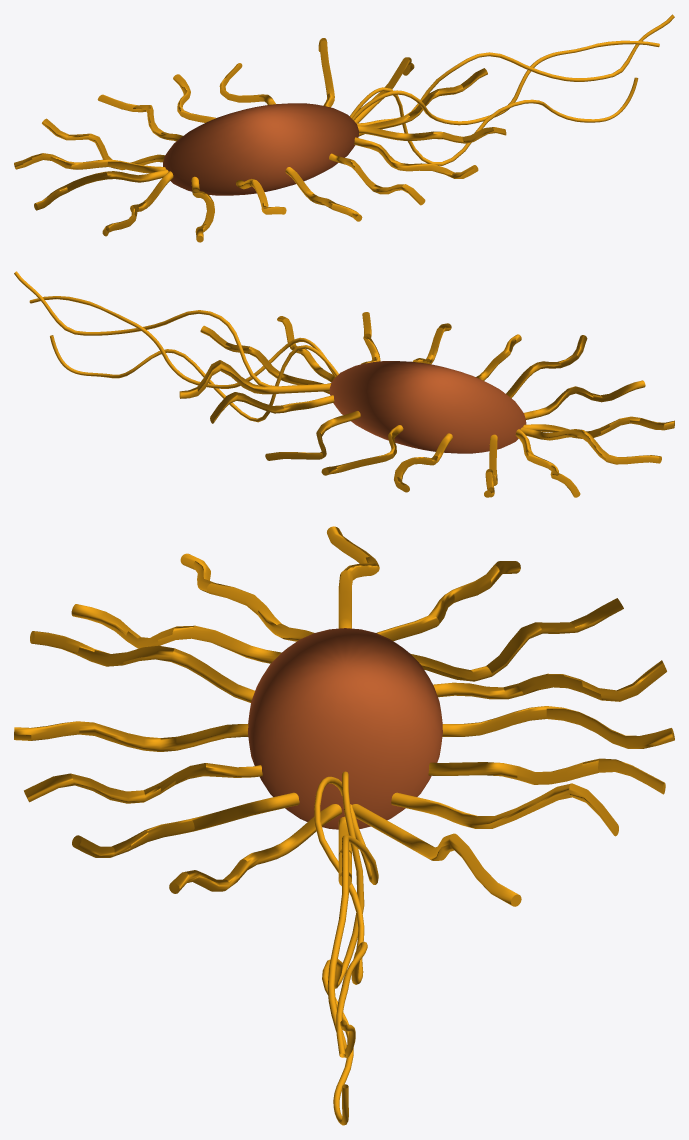
The model's file is bacterium project cillia bacteriiumtail.obj.
The picture shows the model from 3 angles, top to bottom: view 1: azimuth 30°, elevation 25°; view 2: azimuth 150°, elevation 25°; view 3: azimuth 270°, elevation 25°; orthographic projection. The views are drawn at different scales.
Visible parts, largest first — view 1: Group6 bacterium_cillia Group4 Shape0, Group6 bacterium_cillia Form0, Group6 Group5 Form20, Group6 Group5 Form18, Group6 Group5 Form22; view 2: Group6 bacterium_cillia Group4 Shape0, Group6 bacterium_cillia Form0, Group6 Group5 Form20, Group6 Group5 Form22, Group6 Group5 Form18; view 3: Group6 bacterium_cillia Group4 Shape0, Group6 bacterium_cillia Form0, Group6 Group5 Form20, Group6 Group5 Form22, Group6 Group5 Form18.
Part boxes in pixels (x1,y1,x2,y2): Group6 bacterium_cillia Group4 Shape0: [14, 38, 506, 242]; Group6 bacterium_cillia Form0: [163, 103, 358, 195]; Group6 Group5 Form20: [349, 77, 638, 165]; Group6 Group5 Form18: [352, 40, 659, 125]; Group6 Group5 Form22: [356, 14, 674, 126]; Group6 bacterium_cillia Group4 Shape0: [179, 312, 674, 497]; Group6 bacterium_cillia Form0: [329, 361, 526, 453]; Group6 Group5 Form20: [50, 335, 338, 422]; Group6 Group5 Form22: [14, 271, 331, 386]; Group6 Group5 Form18: [29, 296, 335, 388]; Group6 bacterium_cillia Group4 Shape0: [14, 526, 674, 906]; Group6 bacterium_cillia Form0: [248, 628, 442, 829]; Group6 Group5 Form20: [322, 771, 364, 1125]; Group6 Group5 Form22: [327, 804, 378, 1057]; Group6 Group5 Form18: [314, 776, 367, 1057].
Bounding box in the file's own units: 33.19 × 4.99 × 16.88.
